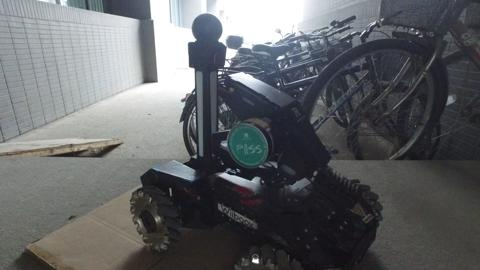bike: (303, 7, 476, 154)
chariot: (114, 15, 390, 266)
